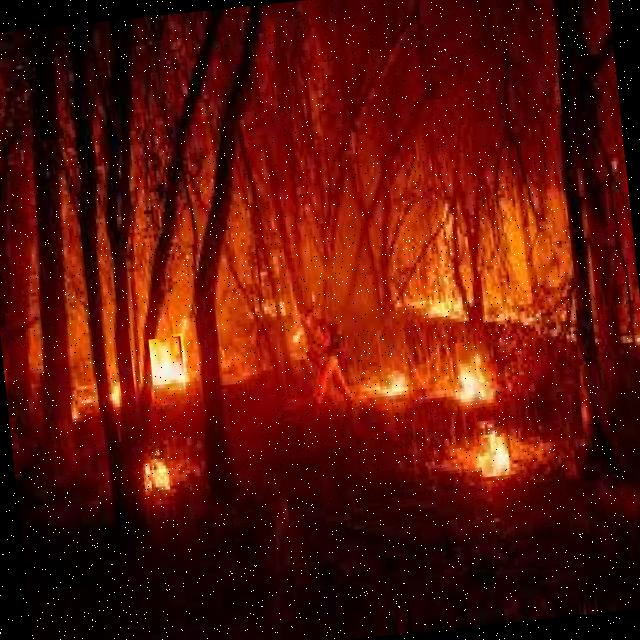fire: (454, 342, 500, 412), (148, 336, 187, 406), (478, 435, 511, 481), (374, 350, 407, 395), (148, 447, 170, 495)
